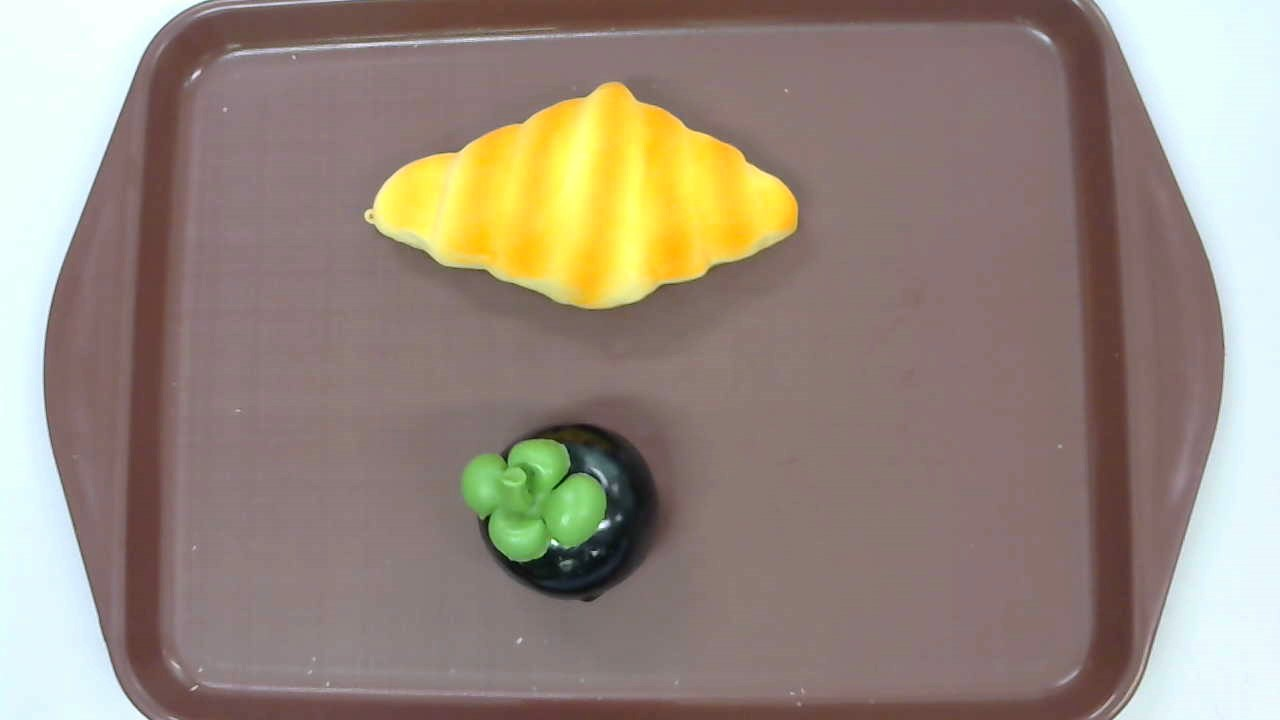croissant: (364, 81, 799, 311)
mangosteen: (460, 423, 660, 604)
